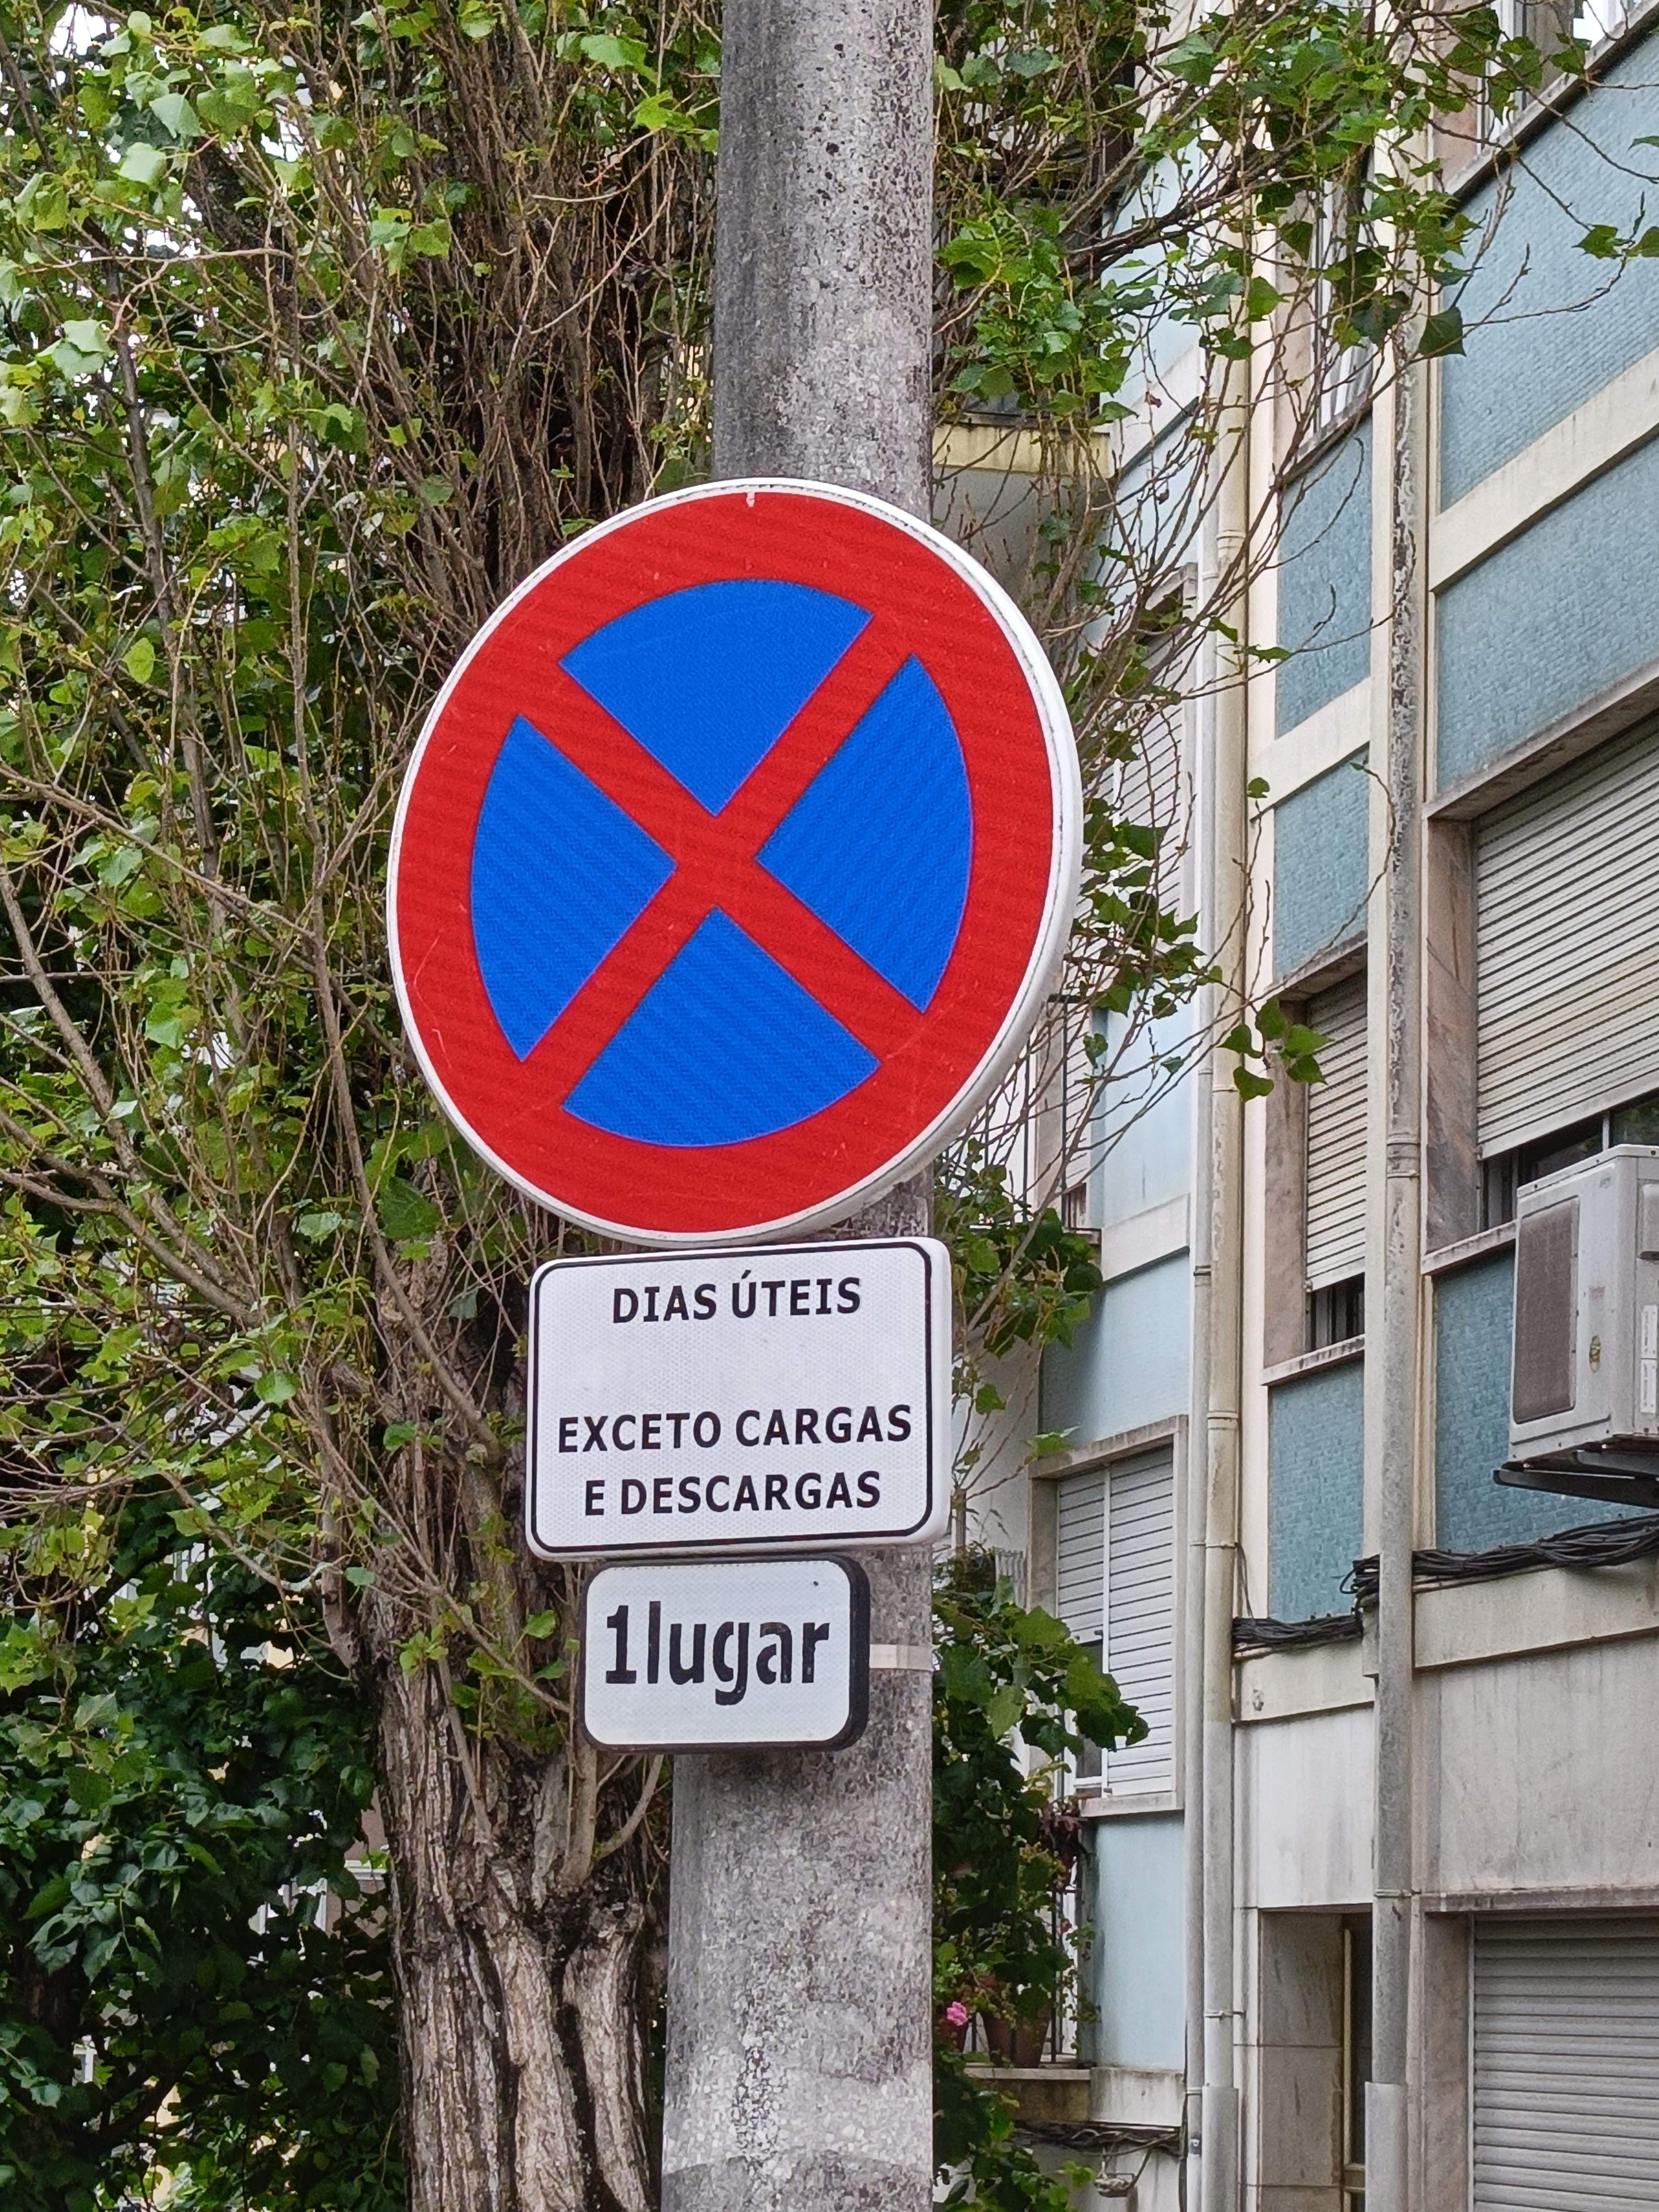paragem e estacionamneto proibido: (361, 458, 1108, 1275)
